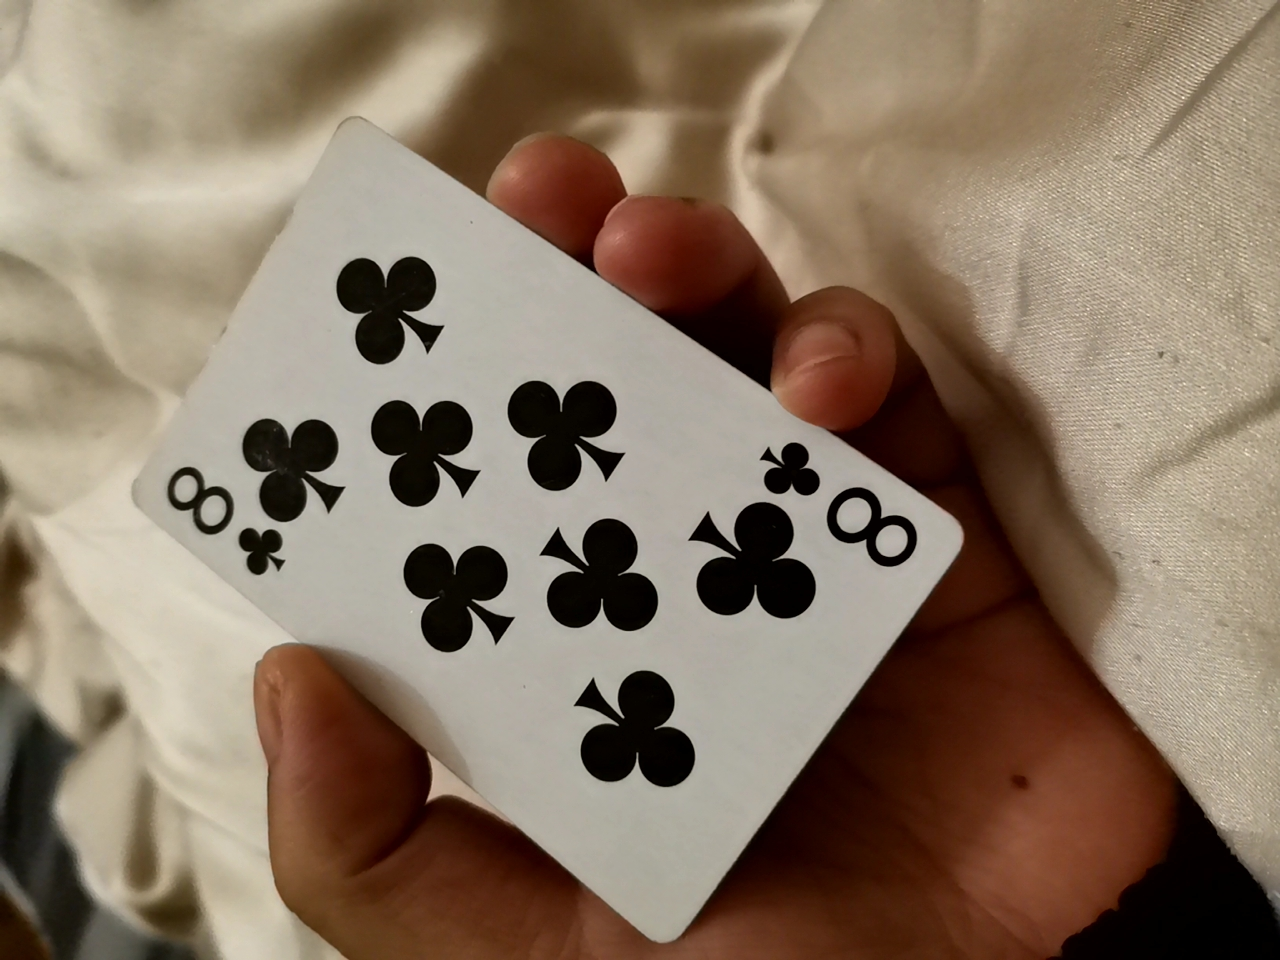mh 8: (97, 105, 995, 943)
